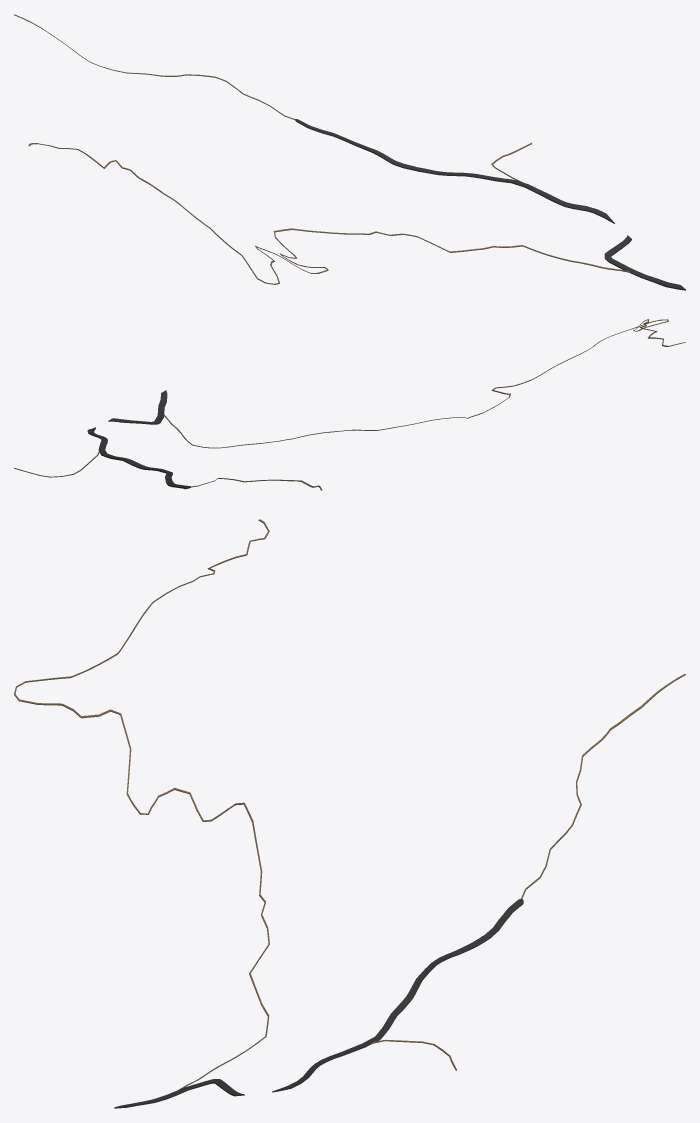
The picture shows the model from 3 angles, top to bottom: view 1: azimuth 30°, elevation 25°; view 2: azimuth 150°, elevation 25°; view 3: azimuth 270°, elevation 25°; orthographic projection. The views are drawn at different scales.
Bounding box in the file's own units: 655 × 257 × 580.
